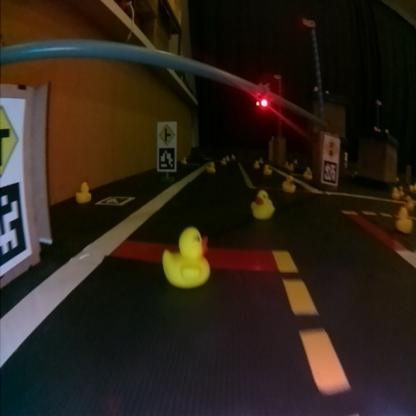Duckie: (163, 228, 210, 286), (252, 190, 276, 218), (397, 206, 413, 232), (76, 182, 92, 202), (284, 176, 296, 192), (304, 167, 314, 179), (266, 164, 272, 174)
Intersection sign: (160, 123, 176, 143)
QR code: (2, 182, 30, 270), (160, 147, 174, 171), (323, 160, 337, 182), (96, 196, 134, 204)
Signal sign: (325, 138, 339, 158)
Traffic light: (258, 82, 270, 108)
